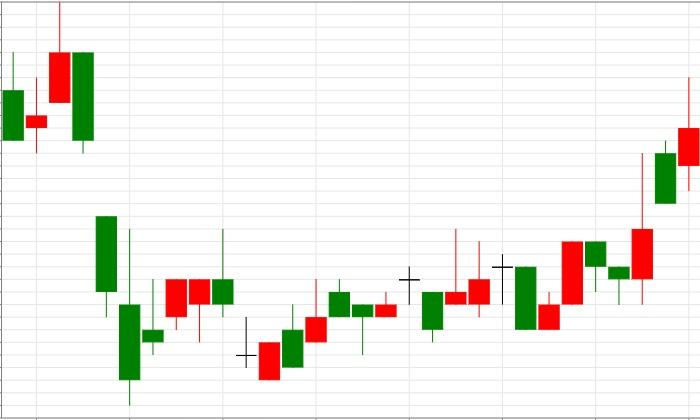shooting_star_fall: (119, 228, 233, 406)
